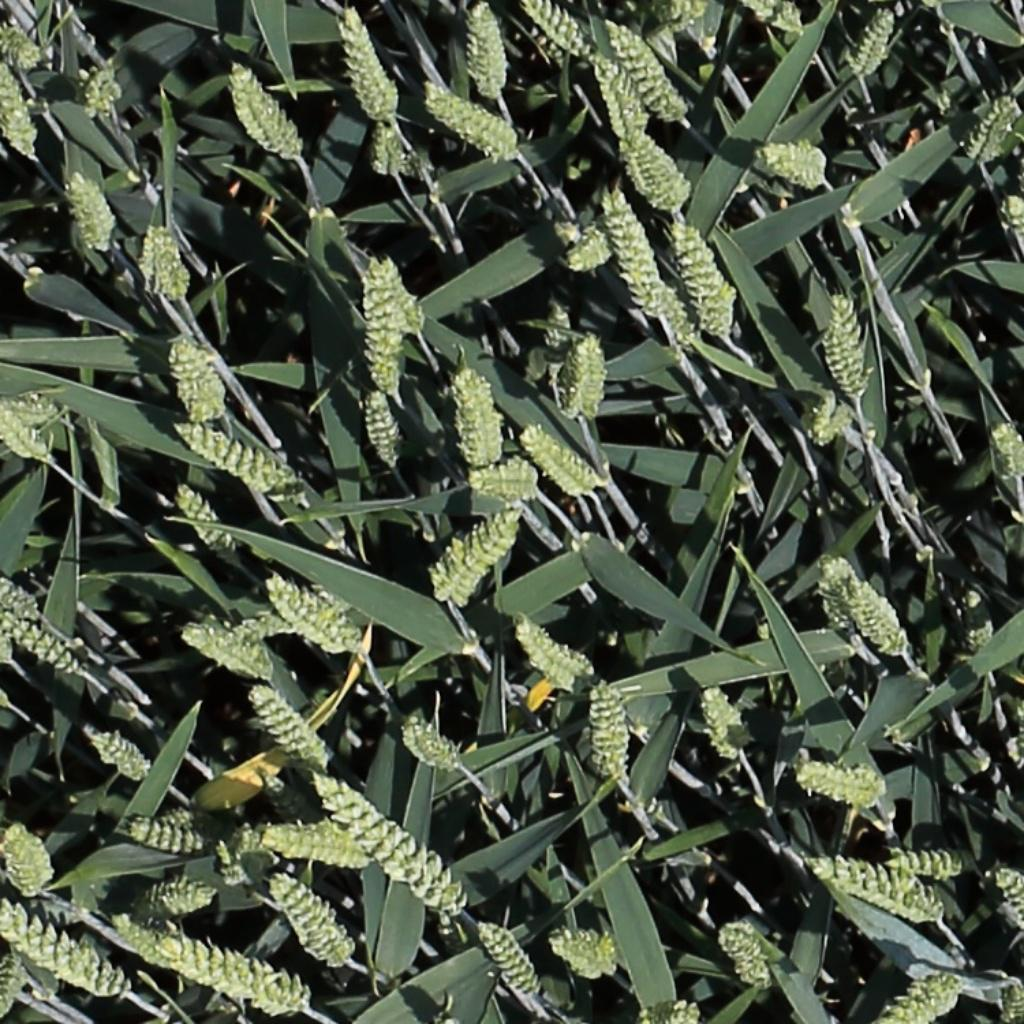0-0: (318, 779, 461, 910), (140, 928, 303, 1016), (0, 909, 128, 998), (802, 853, 945, 927), (425, 509, 525, 609), (603, 15, 686, 126), (176, 423, 304, 494), (164, 334, 240, 435), (606, 187, 664, 318), (268, 873, 350, 965), (821, 286, 882, 405), (675, 215, 734, 338), (249, 684, 330, 772), (229, 64, 301, 161), (267, 578, 357, 651), (427, 83, 518, 154), (235, 823, 378, 868), (339, 6, 393, 125), (584, 670, 637, 788), (248, 764, 330, 840), (360, 255, 402, 400), (476, 917, 546, 1003), (790, 758, 892, 817), (172, 480, 241, 565), (0, 604, 81, 675), (456, 365, 510, 471), (522, 425, 599, 495), (628, 125, 689, 208), (514, 621, 593, 684), (850, 576, 909, 660), (749, 138, 832, 195), (814, 553, 867, 642), (182, 626, 271, 678), (524, 0, 598, 62), (963, 87, 1021, 166), (0, 38, 37, 161), (138, 222, 196, 300), (566, 324, 612, 419), (64, 166, 113, 253), (872, 977, 961, 1024), (376, 253, 427, 335), (549, 925, 622, 981), (649, 273, 701, 350), (719, 922, 776, 992), (851, 2, 901, 81), (0, 387, 50, 465), (878, 848, 982, 884), (700, 682, 744, 767), (222, 817, 270, 891), (6, 827, 57, 895), (468, 461, 542, 506), (404, 719, 462, 776), (596, 66, 638, 144), (118, 910, 177, 965), (137, 877, 220, 916), (365, 385, 402, 472), (86, 730, 148, 780), (470, 0, 501, 98), (647, 0, 710, 43), (989, 862, 1024, 939), (81, 55, 121, 120), (543, 296, 574, 375), (962, 585, 995, 659), (992, 412, 1024, 480), (811, 382, 842, 450), (0, 21, 43, 69), (372, 110, 402, 178), (0, 576, 42, 623), (749, 0, 804, 35), (998, 185, 1024, 251), (0, 947, 23, 1021), (157, 802, 208, 834), (569, 233, 615, 268), (643, 1000, 700, 1024), (999, 973, 1022, 1022)
